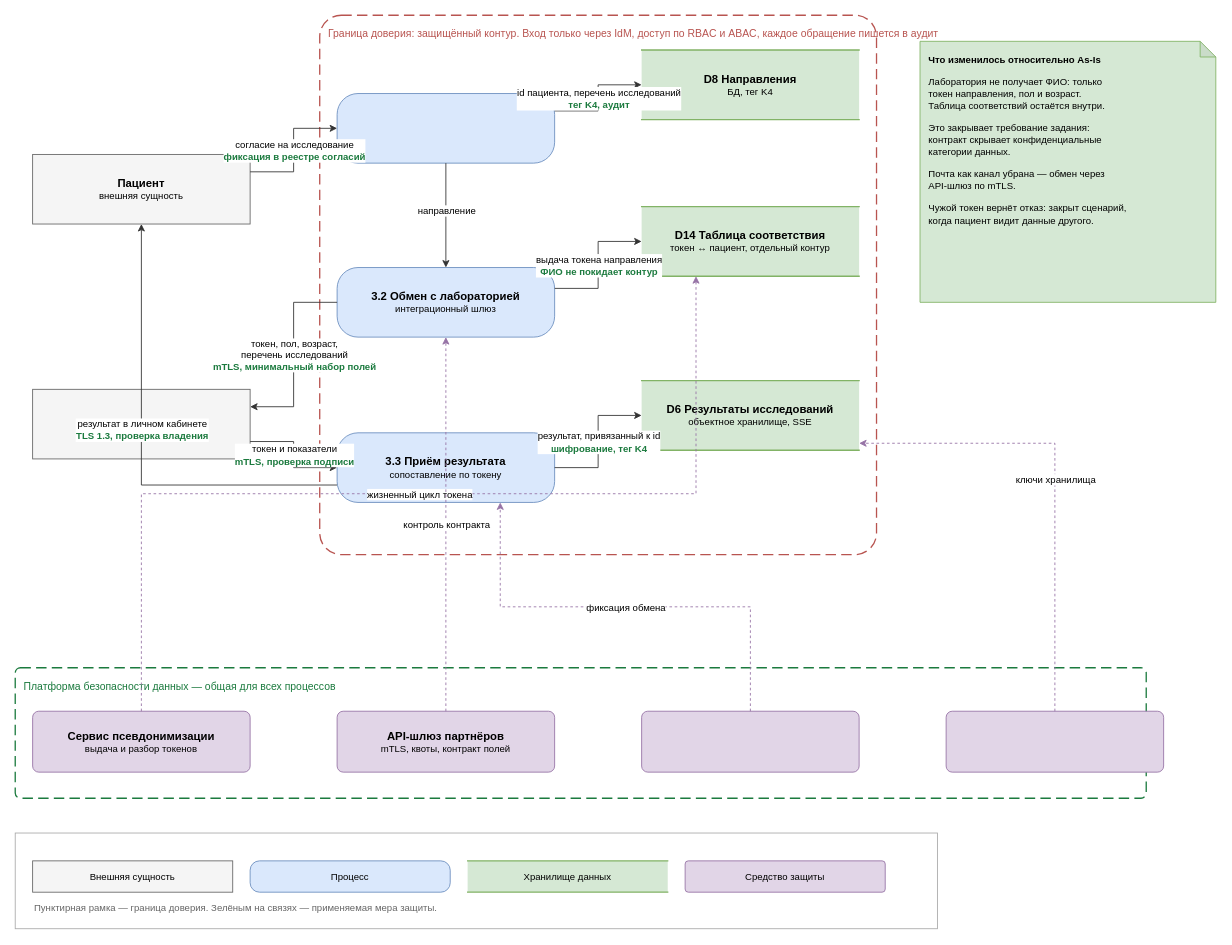
The diagram is 1232 pixels wide and 945 high, and some of its shapes have lost their labels. The shapes that lost their labels are listed below. From the top down, each one's box as (x1, y1, x2, y2) in pixels, then its label:
(336, 93, 555, 163): 3.1 Выписка направления МИС
(32, 388, 250, 459): Лаборатория анализов внешняя организация
(641, 710, 859, 772): Аудит и SIEM лог обмена с лабораторией
(945, 710, 1164, 772): Управление ключами ключи канала и хранилища
(14, 832, 937, 929): Нотация
